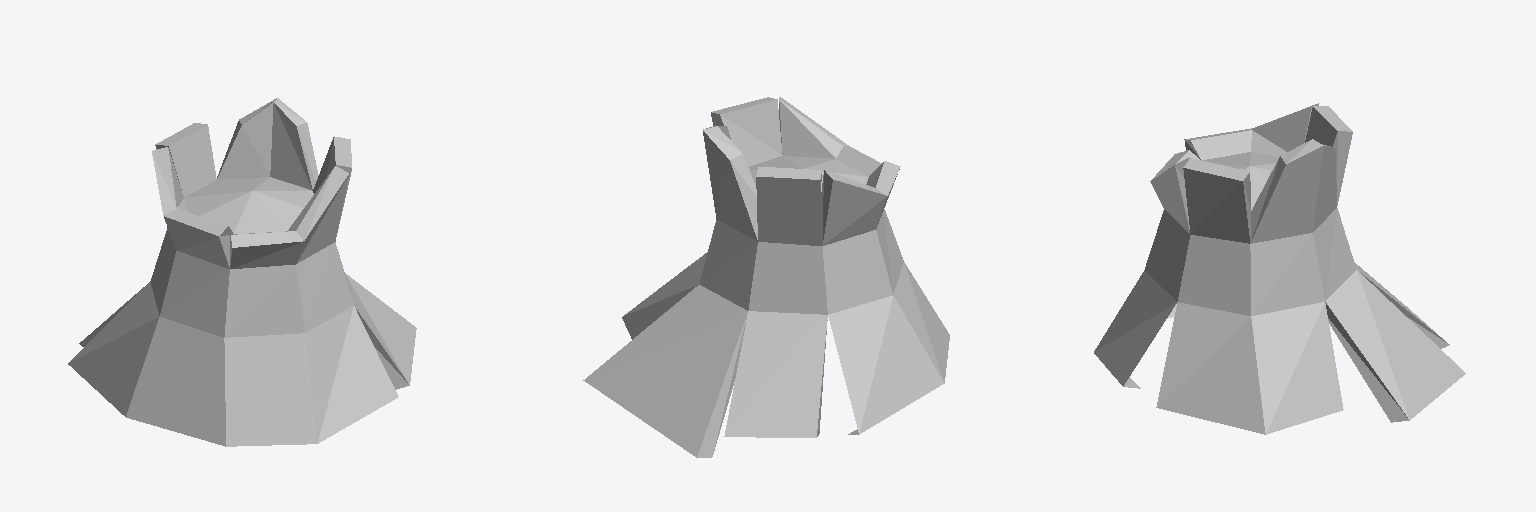
Rendered from log2.obj.
3 views of the same model, side by side, from view 1: azimuth 30°, elevation 25°; view 2: azimuth 150°, elevation 25°; view 3: azimuth 270°, elevation 25° (orthographic).
Visible parts, largest first — view 1: pCylinder10; view 2: pCylinder10; view 3: pCylinder10.
Boxes of the visible parts, x1=… form: pCylinder10: x1=68, y1=98, x2=416, y2=446; pCylinder10: x1=583, y1=97, x2=949, y2=457; pCylinder10: x1=1094, y1=103, x2=1465, y2=434.
Size of the model in its own units: 2.44 by 2.03 by 2.56.